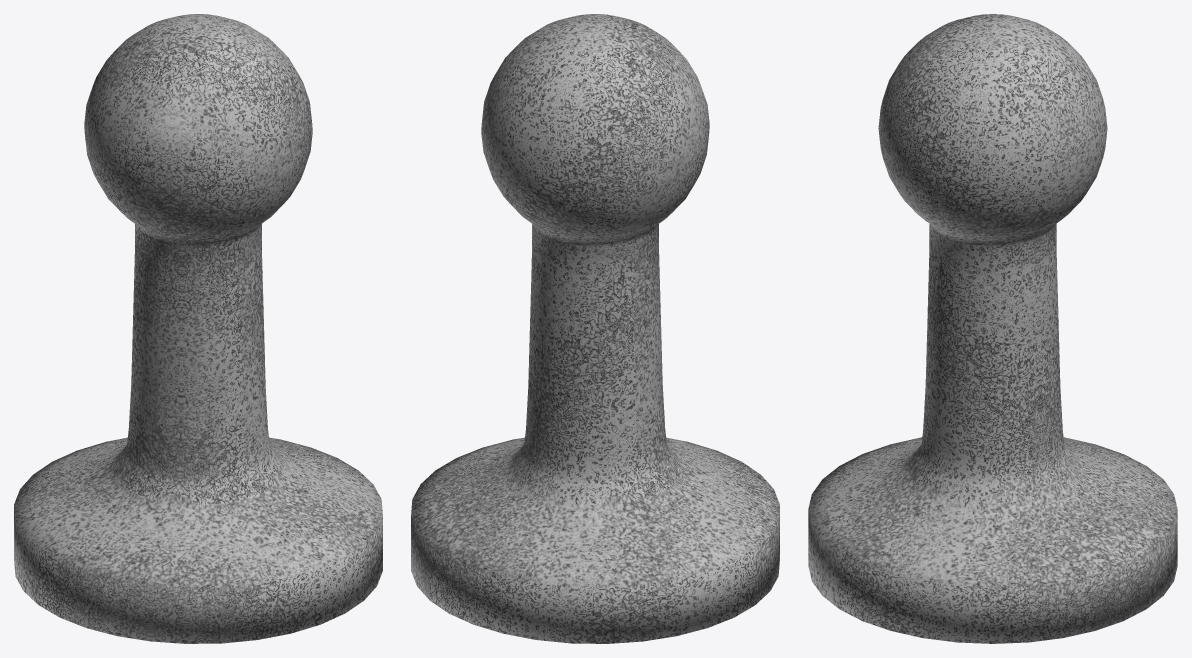
Rendered from Pawn.glb.
3 renders of one model, left to right at view 1: azimuth 30°, elevation 25°; view 2: azimuth 150°, elevation 25°; view 3: azimuth 270°, elevation 25°, orthographic.
Visible parts, largest first — view 1: Circle; view 2: Circle; view 3: Circle.
Part boxes in pixels (x1,y1,x2,y2): Circle: (14, 14, 382, 643); Circle: (411, 14, 779, 643); Circle: (808, 14, 1177, 643).
Size of the model in its own units: 2 by 3.23 by 2.
Materials: 1 (1 with a texture image).
